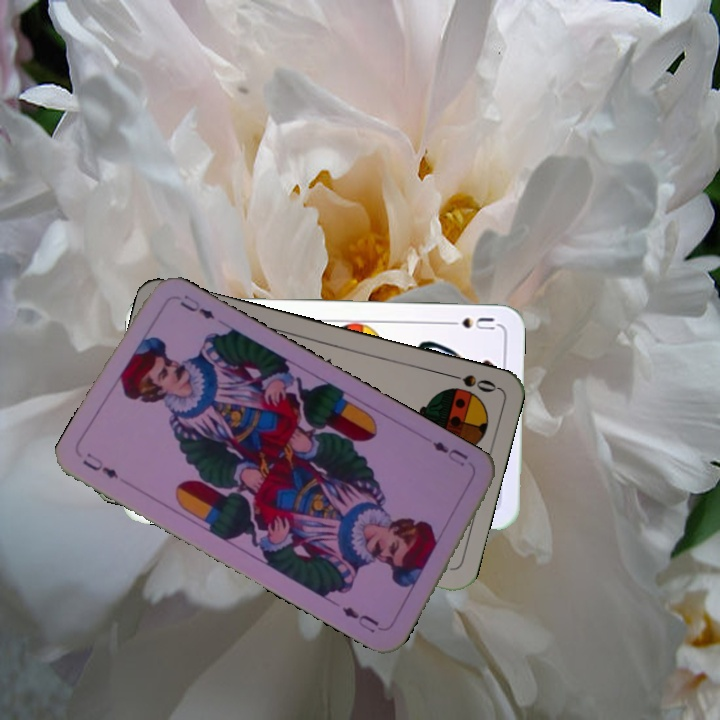EU: (78, 448, 121, 482), (428, 437, 471, 470)
SO: (441, 369, 499, 395)
SU: (440, 313, 498, 333)
